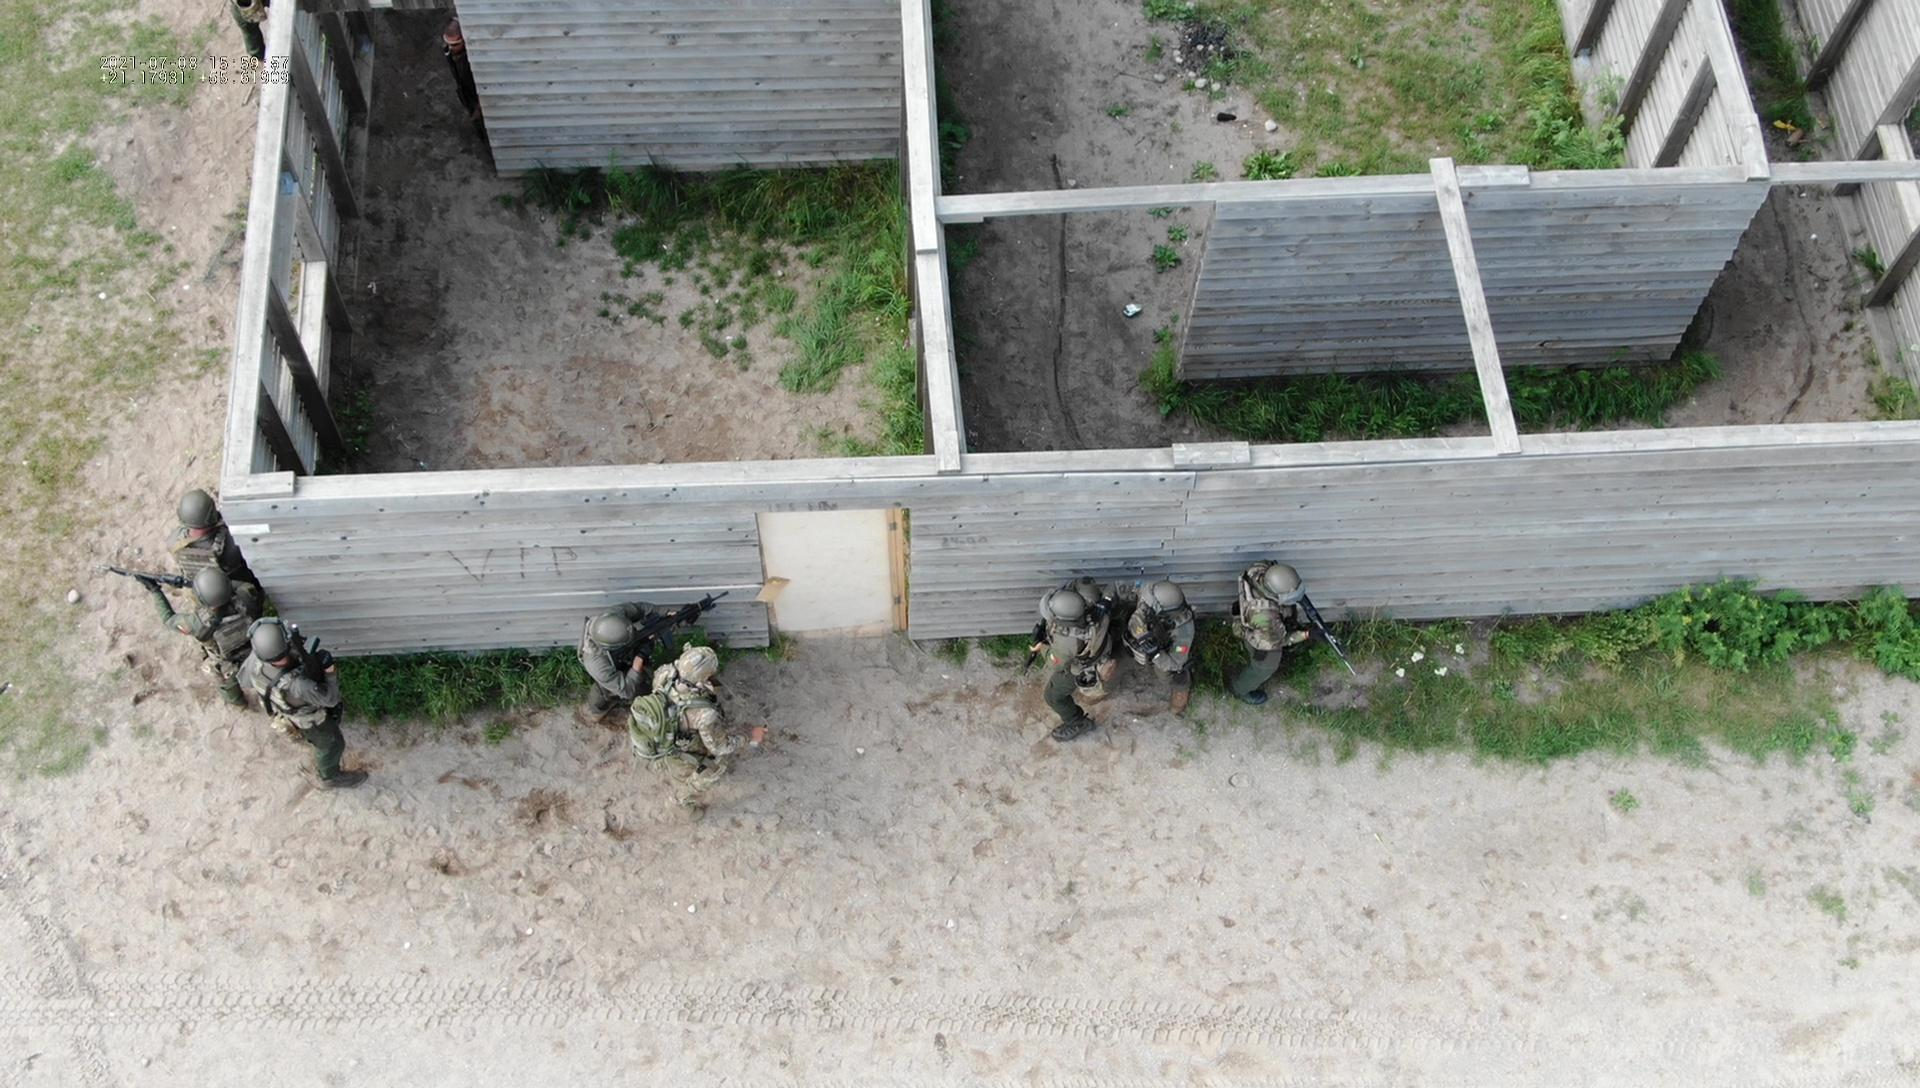Soldier: (232, 609, 385, 801), (1221, 535, 1361, 741), (632, 638, 781, 826), (567, 572, 738, 703), (131, 563, 274, 704), (1023, 562, 1121, 750), (1101, 567, 1209, 720), (153, 473, 248, 588)
